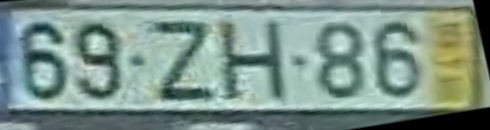6: (14, 18, 72, 105), (369, 18, 424, 102)
8: (310, 18, 368, 103)
9: (70, 19, 129, 102)
H: (214, 19, 290, 101)
Z: (145, 18, 219, 105)
